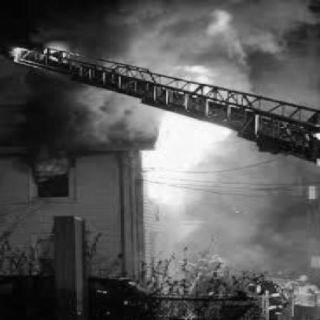Fire: (133, 17, 261, 203), (26, 144, 76, 182)
other: (12, 41, 72, 66)
